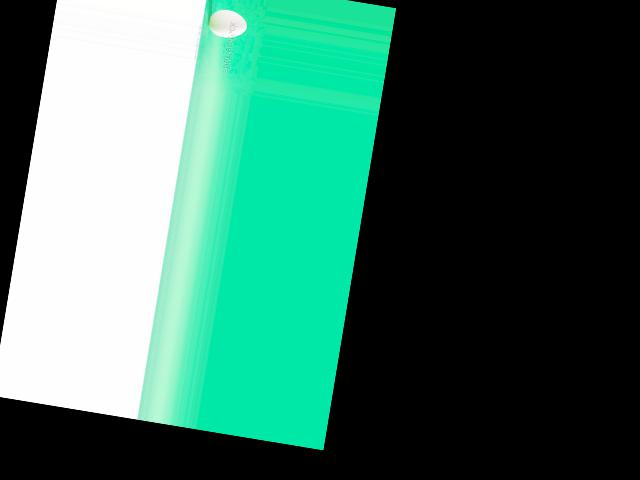egg: (205, 6, 248, 40)
